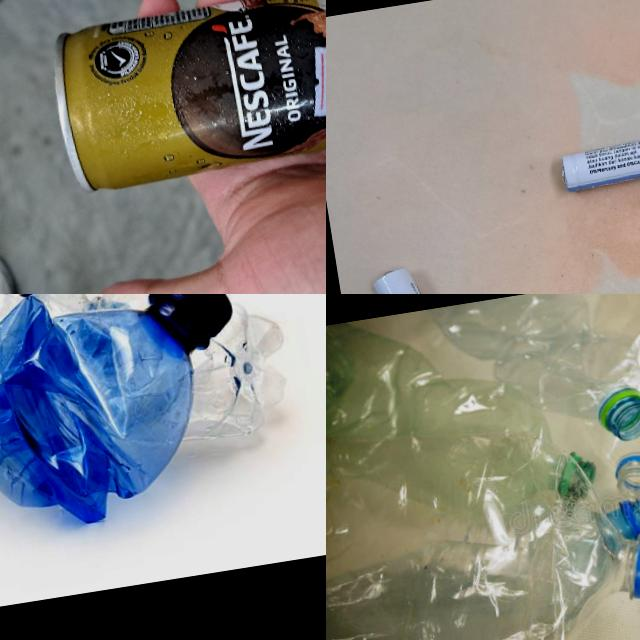bateria: (554, 124, 640, 195), (369, 258, 481, 294)
garrafa plástica: (326, 385, 640, 640), (326, 294, 598, 548), (0, 294, 214, 541), (24, 294, 301, 479), (326, 494, 640, 640), (425, 294, 640, 465), (573, 294, 640, 506)
lata: (44, 0, 326, 199)
tampa plástica: (146, 294, 238, 348)
